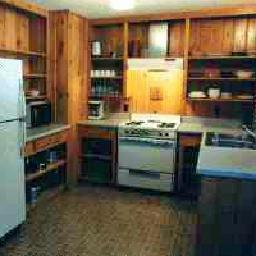Electrodomestico: (1, 58, 28, 227), (124, 124, 176, 190)
Lavaplatos: (201, 126, 255, 151)
